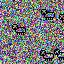sheep: (40, 8, 55, 20), (39, 50, 54, 61), (12, 24, 26, 35), (54, 48, 64, 60)
